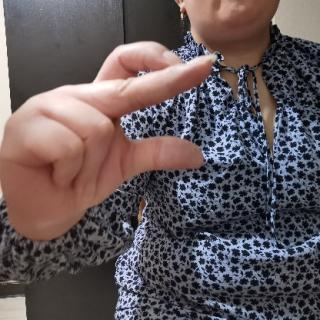DHELL: (2, 39, 232, 242)
